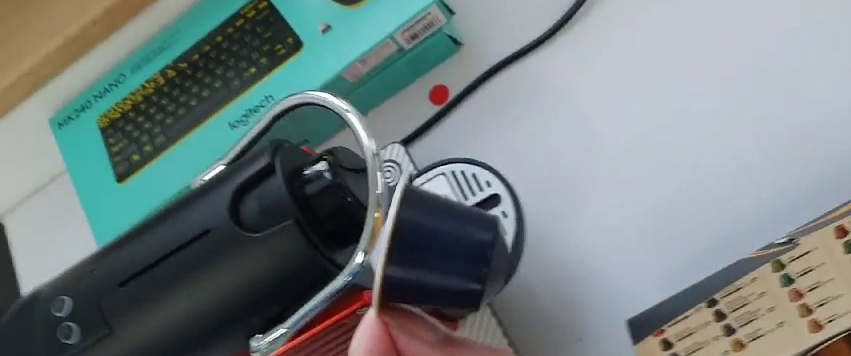capsule_1: (373, 169, 512, 326)
